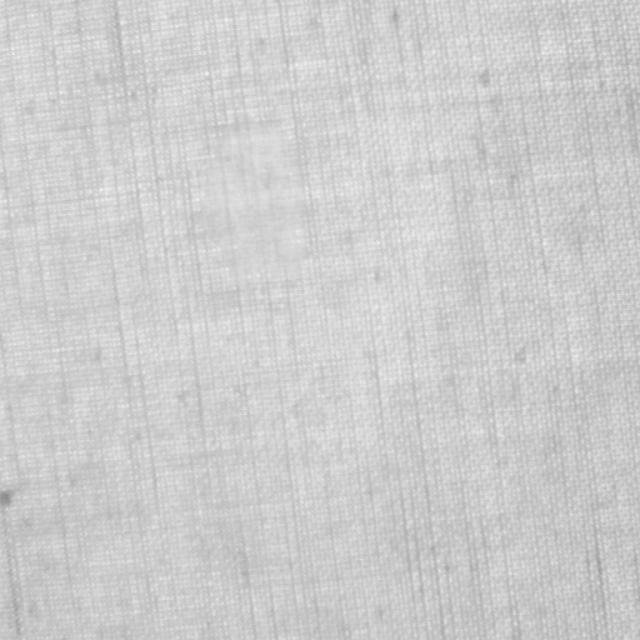oil spot: (196, 115, 308, 283)
